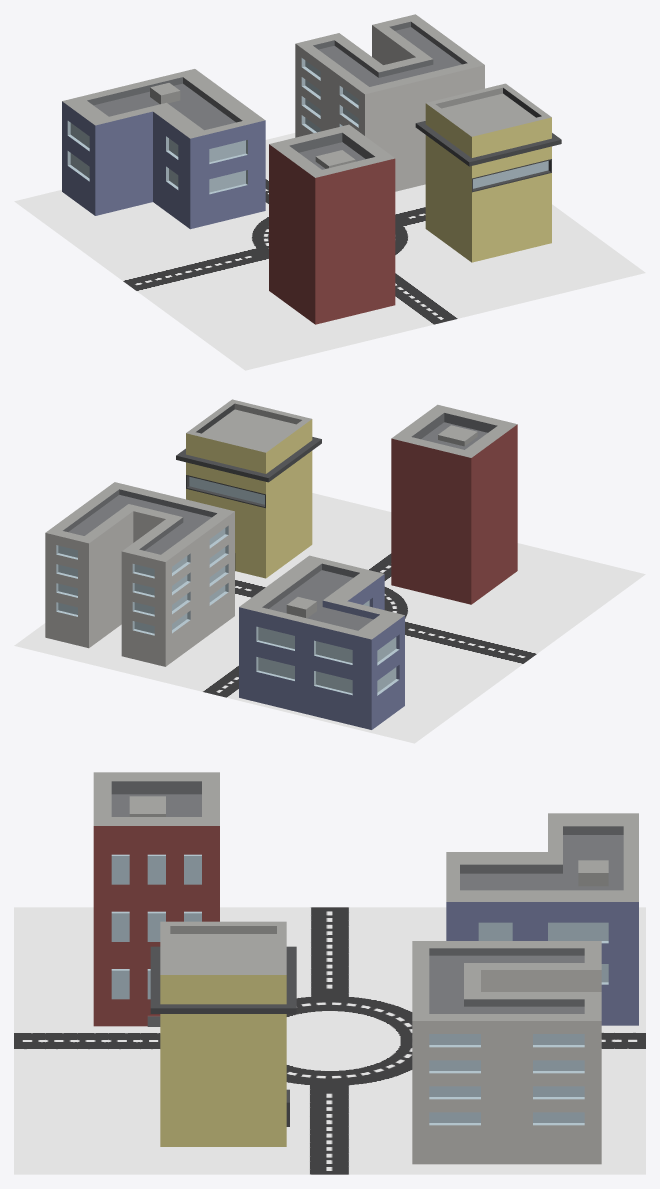
Rendered from level_2_buildings_new.fbx.
3 renders of one model, top to bottom at view 1: azimuth 30°, elevation 25°; view 2: azimuth 150°, elevation 25°; view 3: azimuth 270°, elevation 25°, orthographic. The views are drawn at different scales.
Parts seen in each view (by area): view 1: level_2, Plane; view 2: level_2, Plane; view 3: level_2, Plane.
Part boxes in pixels (x1,y1,x2,y2): level_2: (62,14,561,324); Plane: (14,133,645,370); level_2: (45,399,517,729); Plane: (14,493,645,743); level_2: (93,772,638,1164); Plane: (14,907,645,1174).
Bounding box in the file's own units: 20 × 7.02 × 20.
9 materials, 1 textured.
